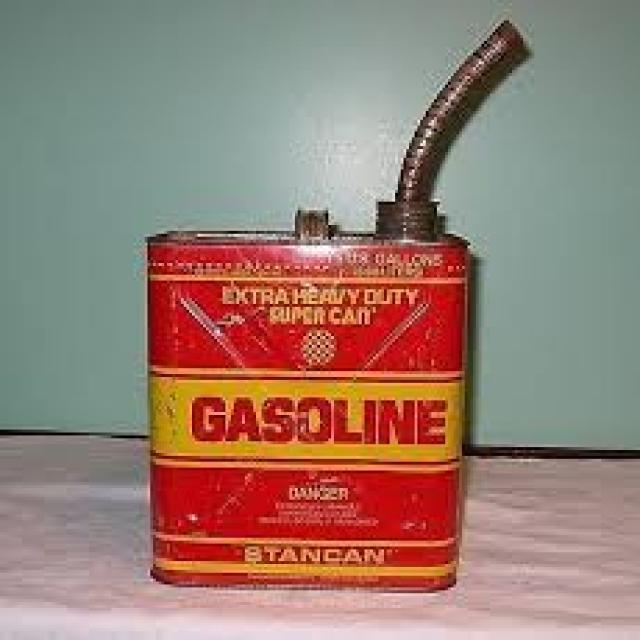gasolin: (83, 16, 572, 606)
